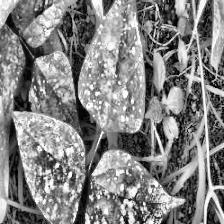Bean Rust: (79, 0, 149, 123), (12, 108, 86, 224), (82, 151, 181, 224)
